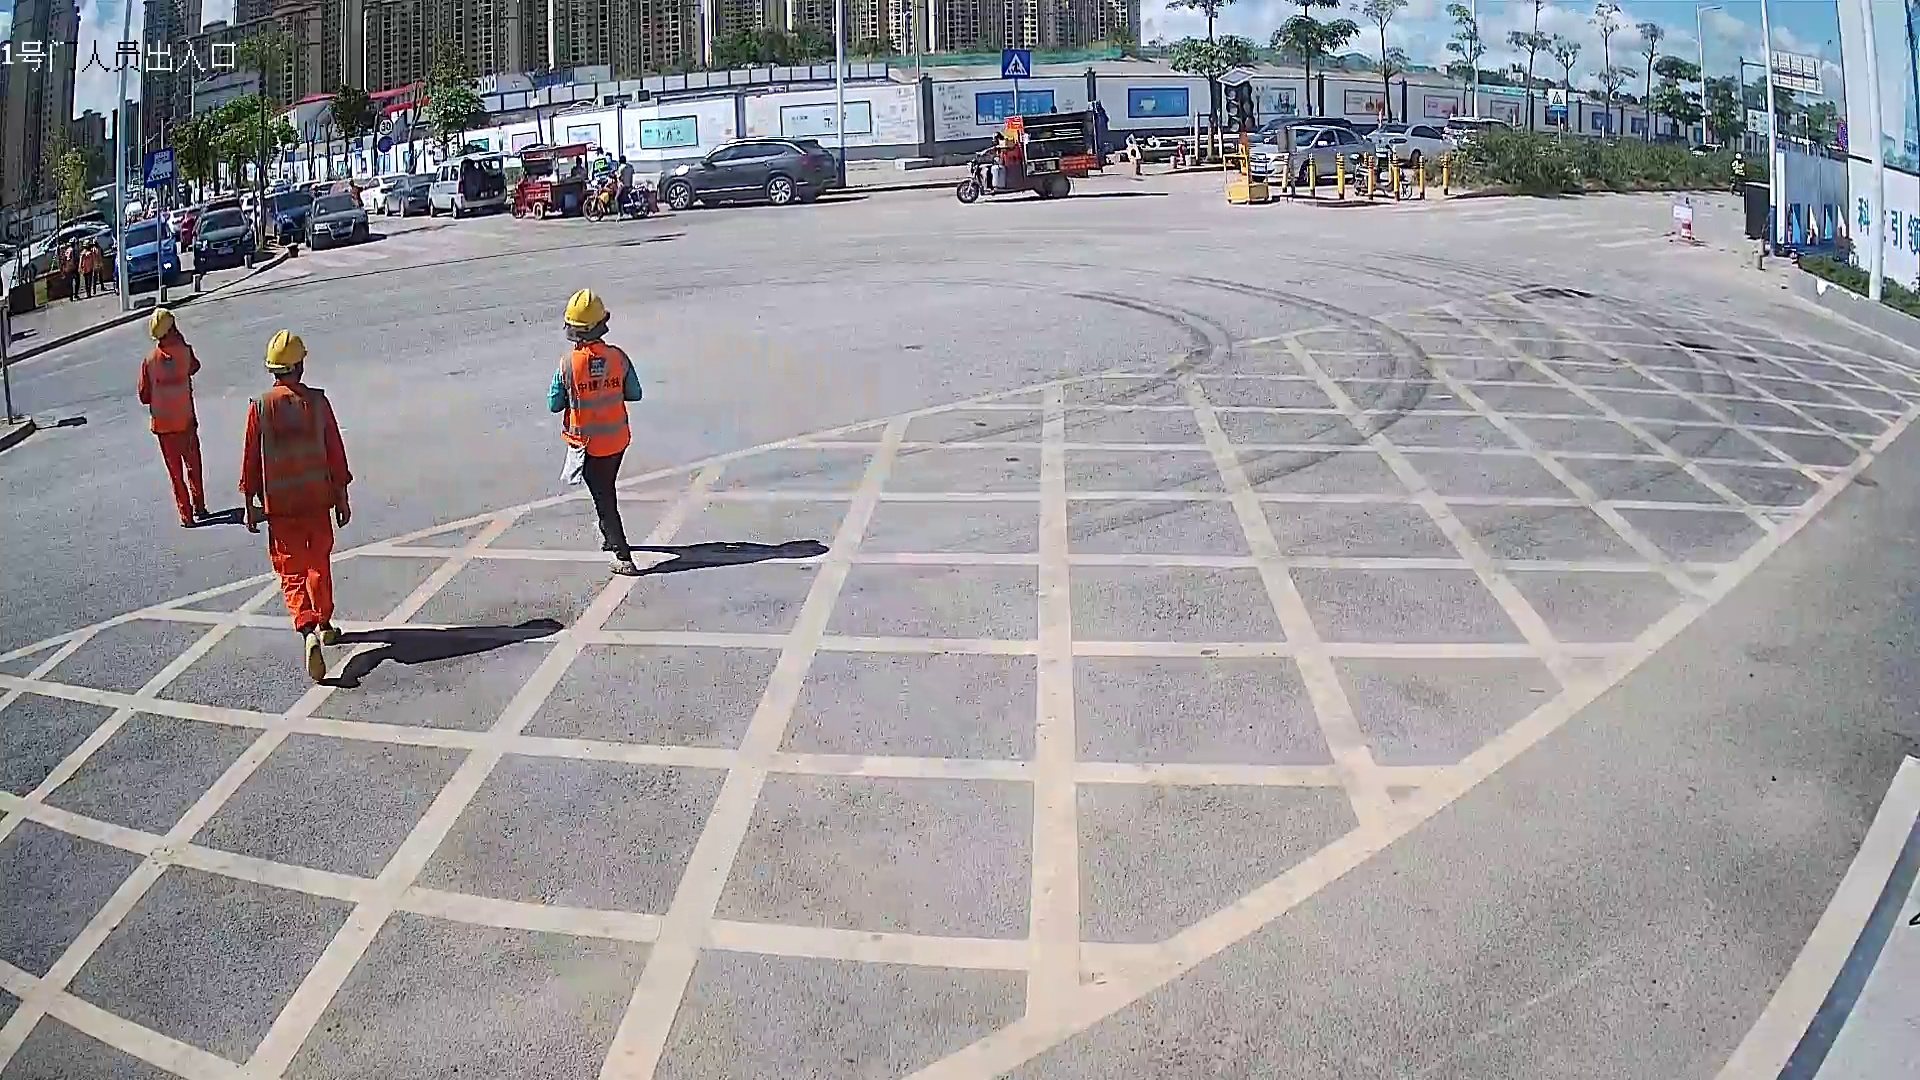person: (234, 322, 358, 691), (544, 282, 648, 580), (134, 300, 215, 532)
reflective_vest: (246, 382, 336, 522), (558, 343, 634, 459), (144, 341, 195, 435)
safety_helmet: (561, 283, 615, 347), (263, 321, 311, 384), (144, 302, 181, 344)
